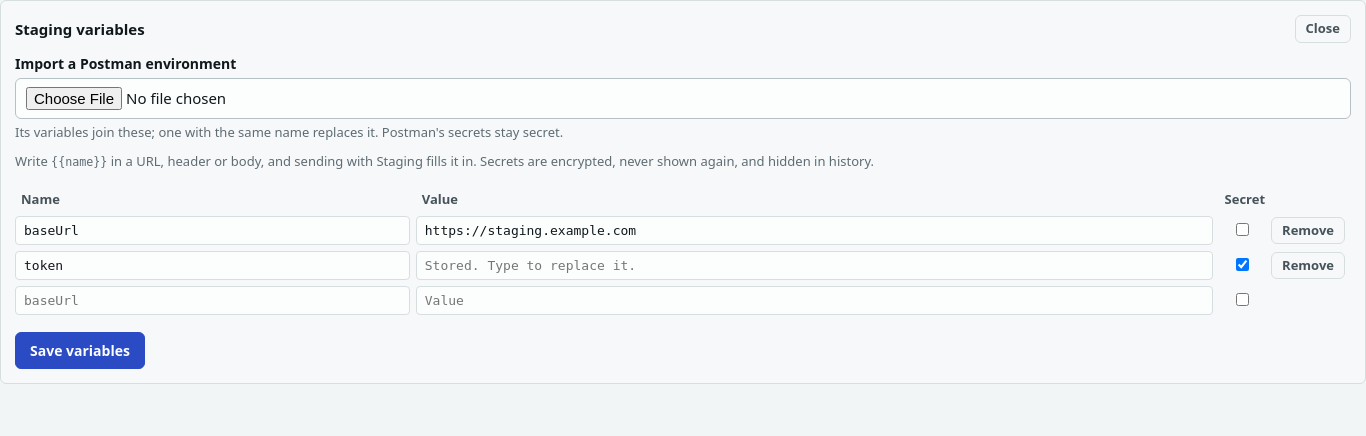
Scenario: VariablesEditor › shows variables, hides secrets, and saves with the version it loaded
The width and height of the screenshot is (1366, 436).
Expected: the field named "Variable 1 value" holds "https://staging.example.com", [416,216,1213,245]
Expected: the password field named "Variable 2 value" is empty, [416,251,1213,280]
Step 1. Type "orderId" into the field named "Variable 3 name" → (212, 300), box [15,286,410,315]
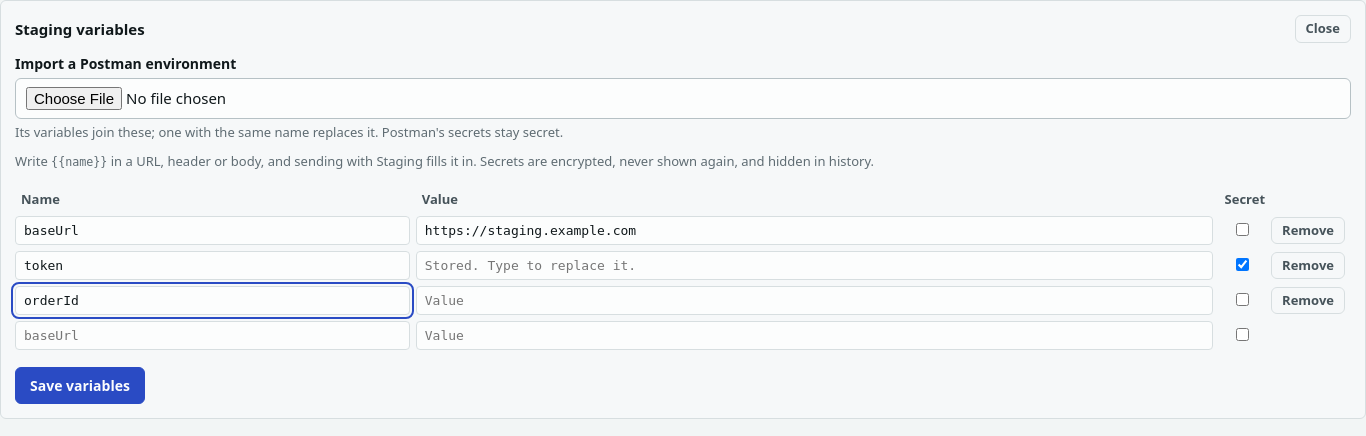
Step 2. Type "42" into the field named "Variable 3 value" → (814, 300), box [416,286,1213,315]
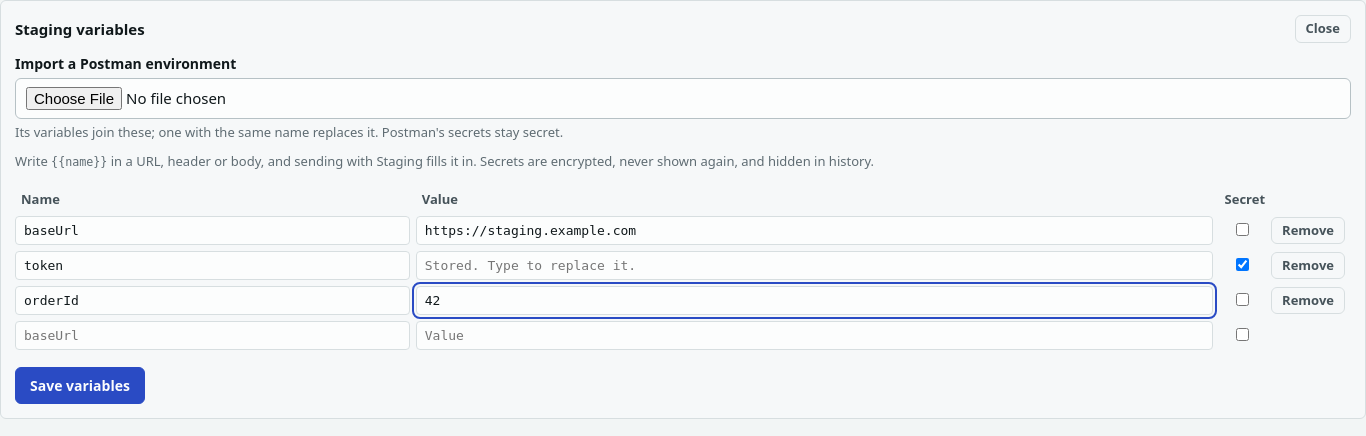
Step 3. Click the button "Save variables" → (80, 386), box [15,367,145,404]
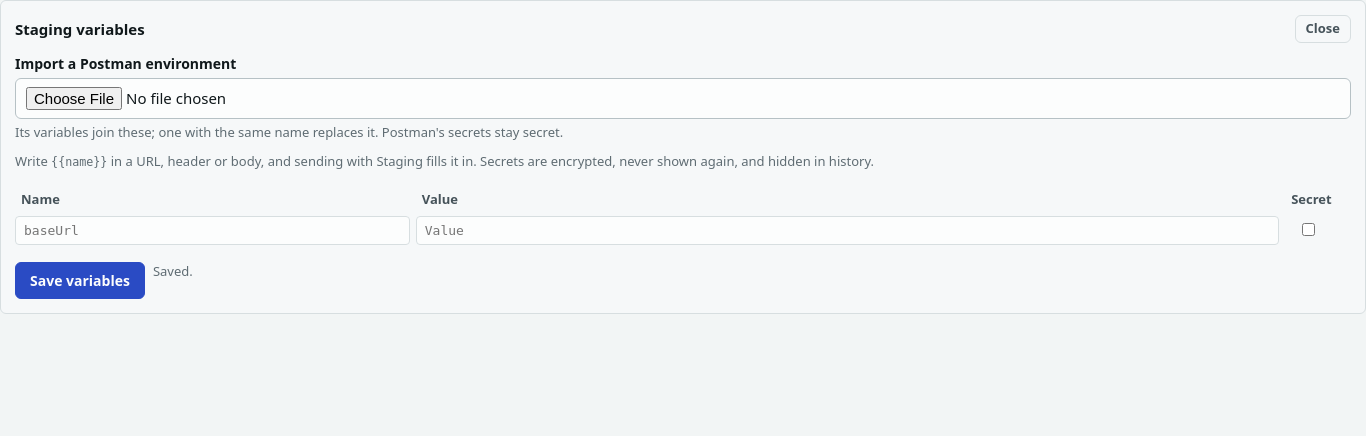
Expected: the message reads "Saved.", [153,262,193,280]
